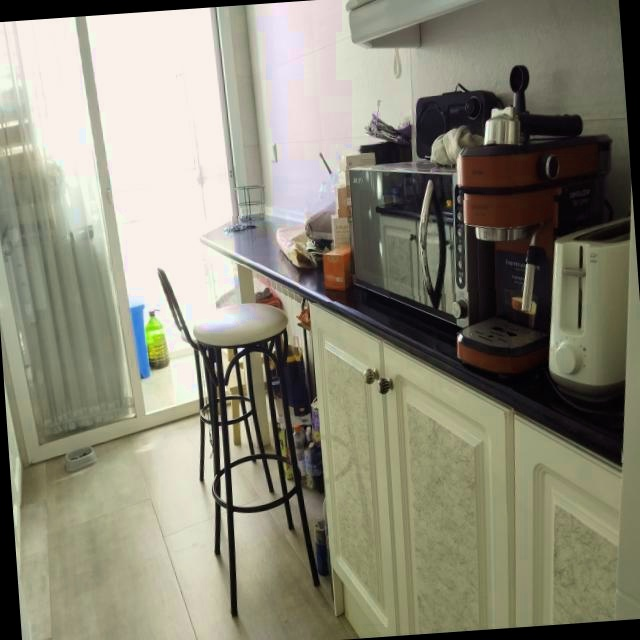cabinet: (309, 303, 517, 637), (514, 412, 622, 627)
chair: (161, 270, 319, 608)
countertop: (201, 213, 621, 463)
microwave: (348, 161, 468, 327)
